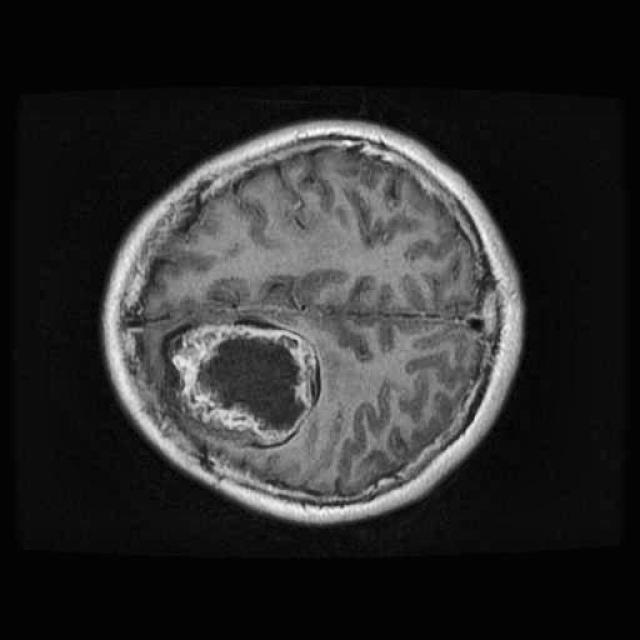Non-Tumor: (146, 306, 334, 456)
